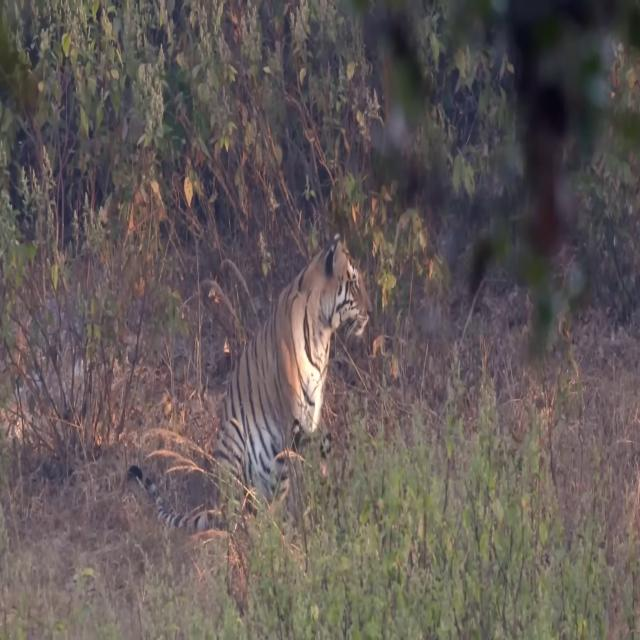tiger: (121, 233, 374, 536)
